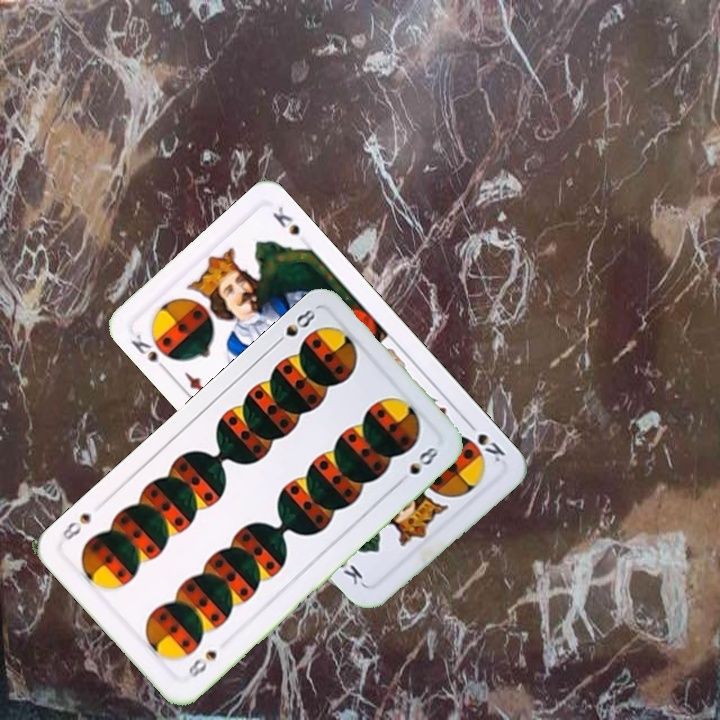S8: (269, 303, 319, 349), (184, 646, 220, 681)
SK: (462, 416, 508, 465), (126, 330, 172, 374)
